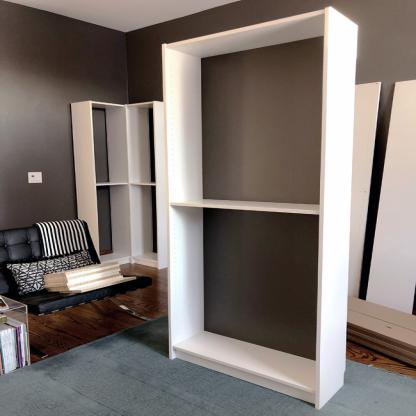lamp: (160, 5, 361, 413)
